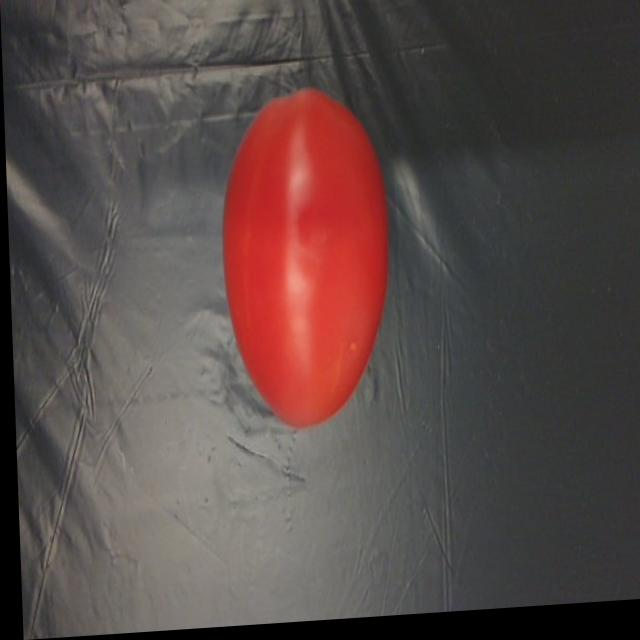kirmizi: (210, 73, 397, 446)
